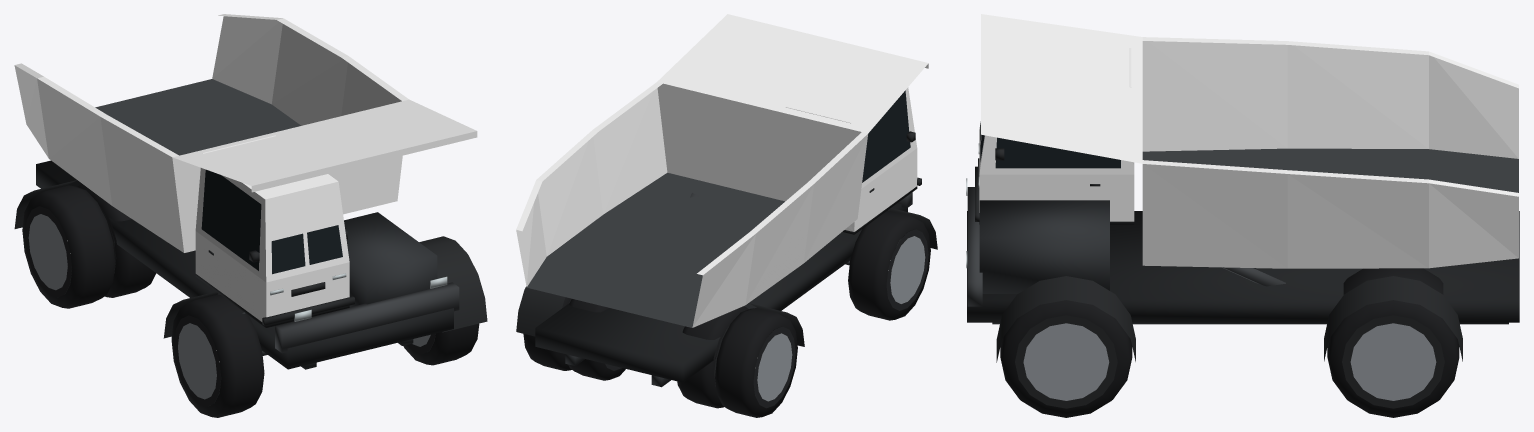
File: brakhaus_colosso.glb
The picture shows the model from 3 angles, left to right: view 1: azimuth 30°, elevation 25°; view 2: azimuth 150°, elevation 25°; view 3: azimuth 270°, elevation 25°; orthographic projection. The views are drawn at different scales.
Visible parts, largest first — view 1: Body_Paint, Body_Details, Mount_RearLeft_Wheel_Details, Mount_FrontLeft_Wheel_Details, Mount_RearLeftInner_Wheel_Details, Mount_FrontRight_Wheel_Details; view 2: Body_Paint, Body_Details, Mount_RearLeft_Wheel_Details, Mount_FrontLeft_Wheel_Details, Mount_RearLeftInner_Wheel_Details, Mount_RearRightInner_Wheel_Details, Mount_RearRight_Wheel_Details; view 3: Body_Paint, Body_Details, Mount_RearRight_Wheel_Details, Mount_FrontRight_Wheel_Details, Mount_RearRightInner_Wheel_Details.
Part boxes in pixels (left/top/right/bottom): Body_Paint: left=14, top=14, right=477, bottom=321; Body_Details: left=14, top=79, right=487, bottom=369; Mount_RearLeft_Wheel_Details: left=22, top=185, right=115, bottom=308; Mount_FrontLeft_Wheel_Details: left=171, top=294, right=264, bottom=417; Mount_RearLeftInner_Wheel_Details: left=77, top=184, right=156, bottom=297; Mount_FrontRight_Wheel_Details: left=403, top=323, right=479, bottom=365; Body_Paint: left=516, top=14, right=928, bottom=327; Body_Details: left=516, top=90, right=937, bottom=387; Mount_RearLeft_Wheel_Details: left=715, top=308, right=797, bottom=417; Mount_FrontLeft_Wheel_Details: left=848, top=210, right=930, bottom=320; Mount_RearLeftInner_Wheel_Details: left=677, top=306, right=748, bottom=408; Mount_RearRightInner_Wheel_Details: left=564, top=299, right=625, bottom=380; Mount_RearRight_Wheel_Details: left=523, top=297, right=571, bottom=370; Body_Paint: left=979, top=14, right=1518, bottom=268; Body_Details: left=966, top=123, right=1519, bottom=362; Mount_RearRight_Wheel_Details: left=1327, top=300, right=1459, bottom=417; Mount_FrontRight_Wheel_Details: left=1000, top=300, right=1132, bottom=417; Mount_RearRightInner_Wheel_Details: left=1343, top=268, right=1443, bottom=294.
Bounding box in the file's own units: 5.49 × 5.13 × 9.22.
2 materials, 1 textured.
